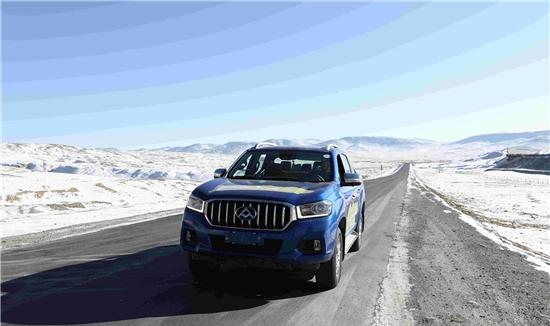car: (177, 140, 365, 288)
